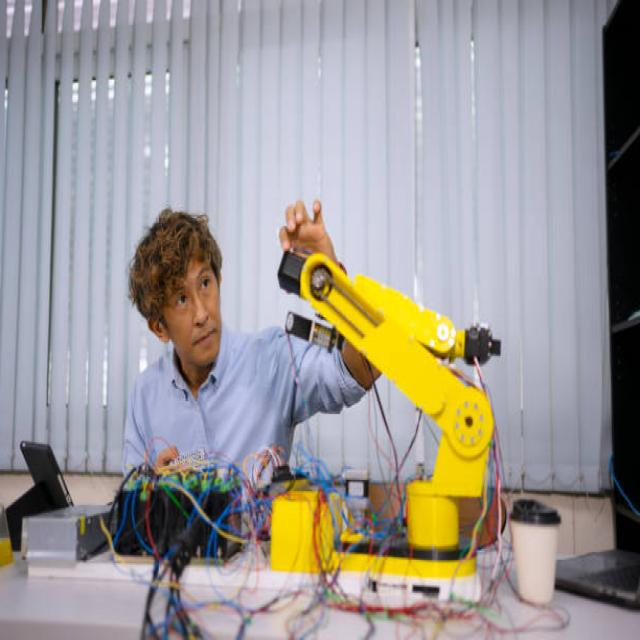Robotic-arm: (262, 246, 515, 592)
